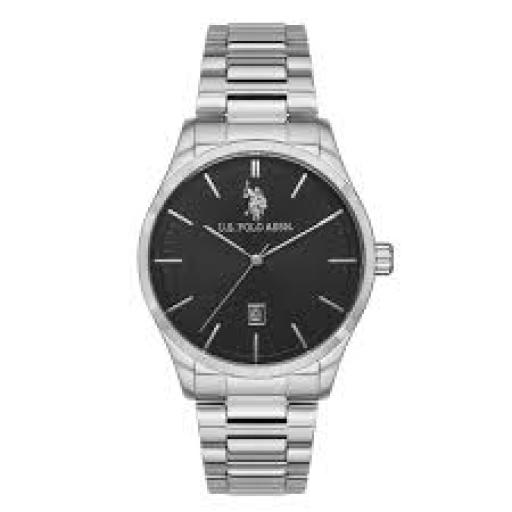KolSaati: (112, 8, 402, 510)
